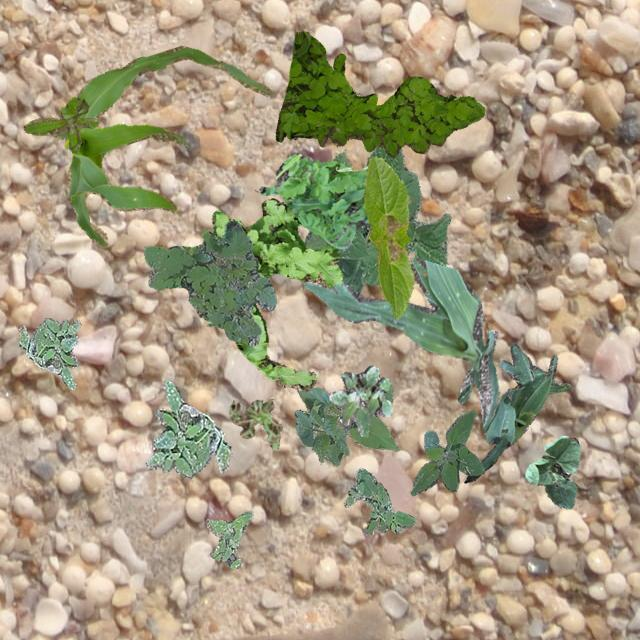crop: (53, 44, 270, 246), (302, 256, 498, 434), (302, 144, 450, 292), (464, 342, 570, 482), (294, 384, 398, 466), (362, 154, 413, 318), (524, 434, 580, 508)
weed: (274, 30, 483, 156), (210, 198, 342, 390), (142, 218, 276, 344), (258, 152, 372, 248), (144, 378, 230, 478), (409, 410, 484, 494), (342, 468, 416, 534), (17, 316, 80, 388), (328, 364, 390, 436), (22, 96, 98, 152), (204, 510, 252, 568), (228, 398, 282, 448)
